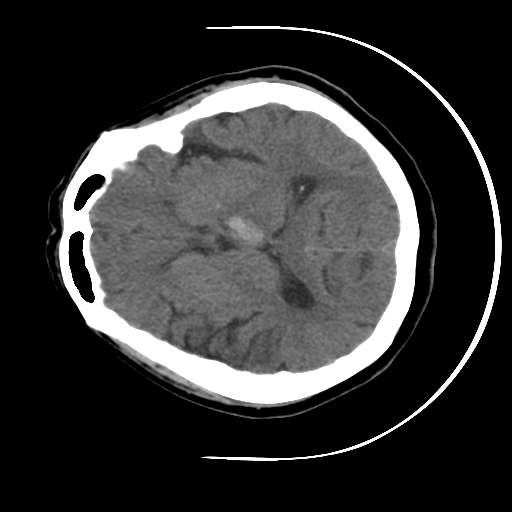a: (205, 193, 283, 256)
